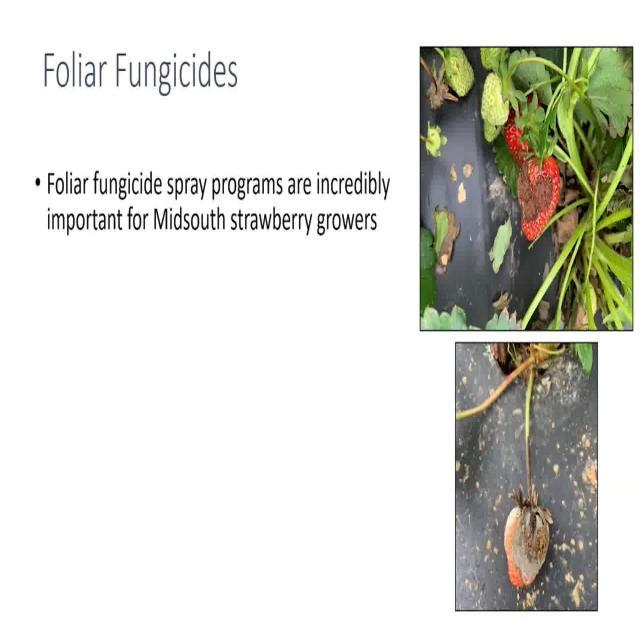Mancha negra Antracnosis: (516, 144, 562, 251)
Moho gris: (501, 482, 553, 593)
